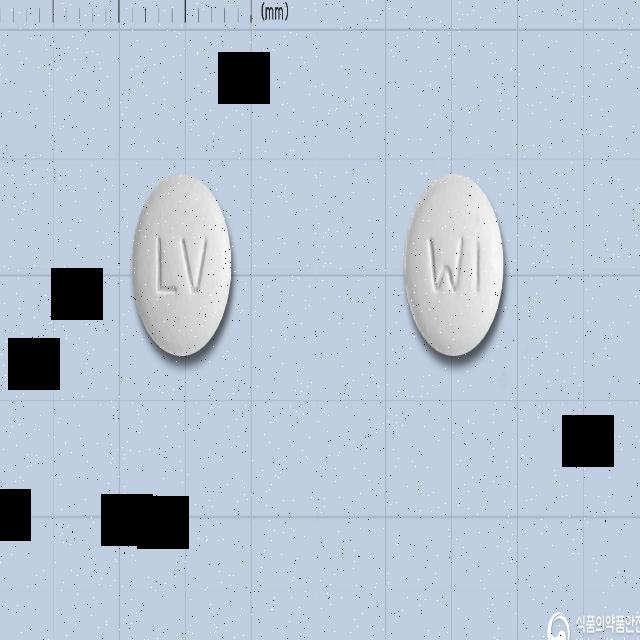Whanin Levofloxacin Tab: (403, 174, 507, 358), (133, 171, 233, 357)
